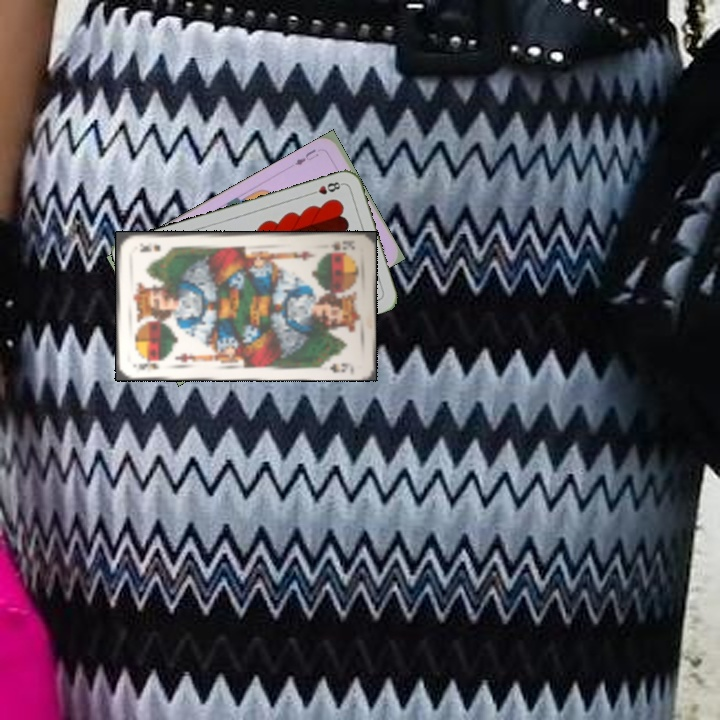EU: (291, 145, 321, 168)
H8: (306, 178, 345, 198)
SK: (326, 236, 358, 253), (134, 356, 167, 372)
